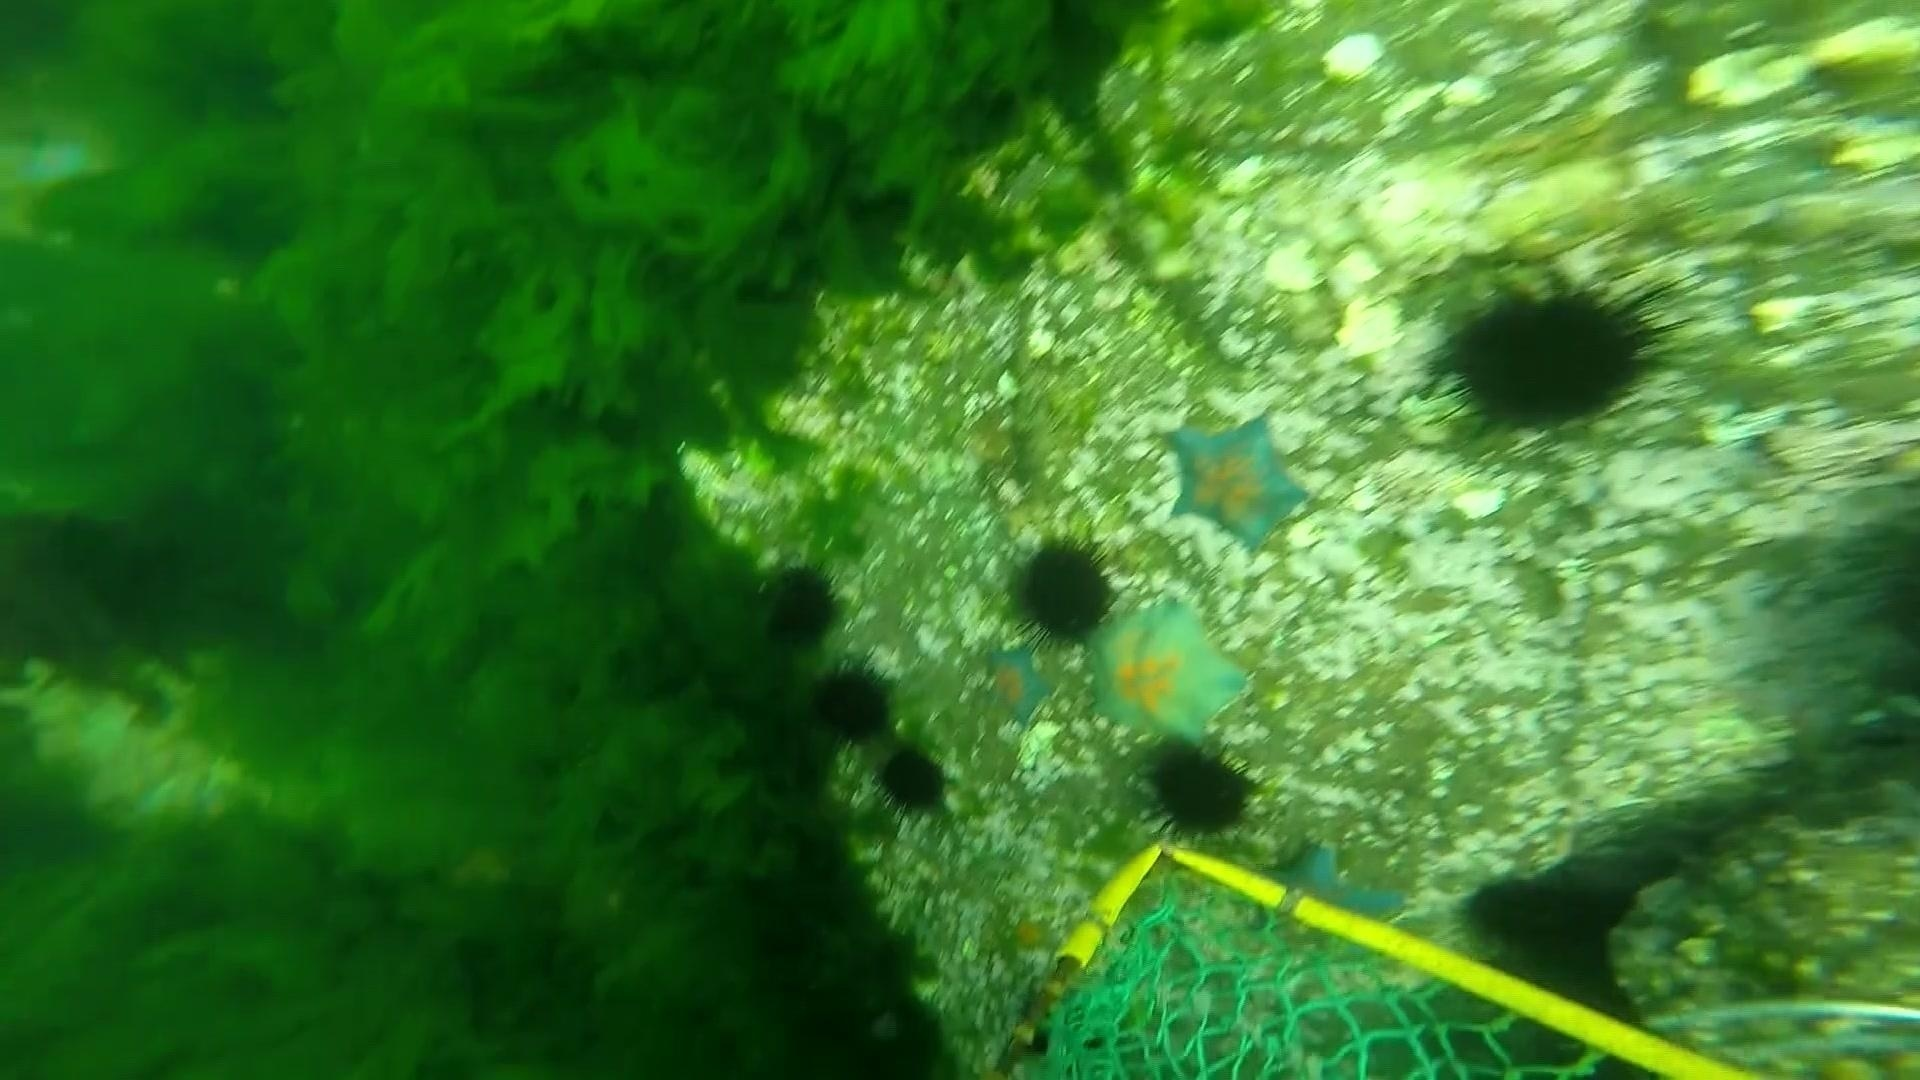echinus: (1423, 261, 1693, 436), (1455, 864, 1640, 1015), (1832, 493, 1920, 663), (1004, 530, 1121, 649), (1139, 738, 1259, 843), (752, 559, 847, 653), (804, 657, 899, 746), (872, 741, 953, 819)
starfish: (1084, 596, 1254, 754), (1158, 407, 1311, 555), (1267, 833, 1420, 935), (977, 637, 1060, 729)
